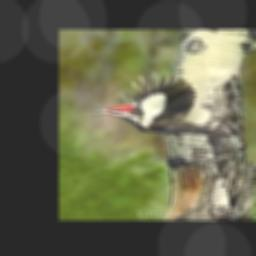Woodpecker: (88, 72, 237, 140)
